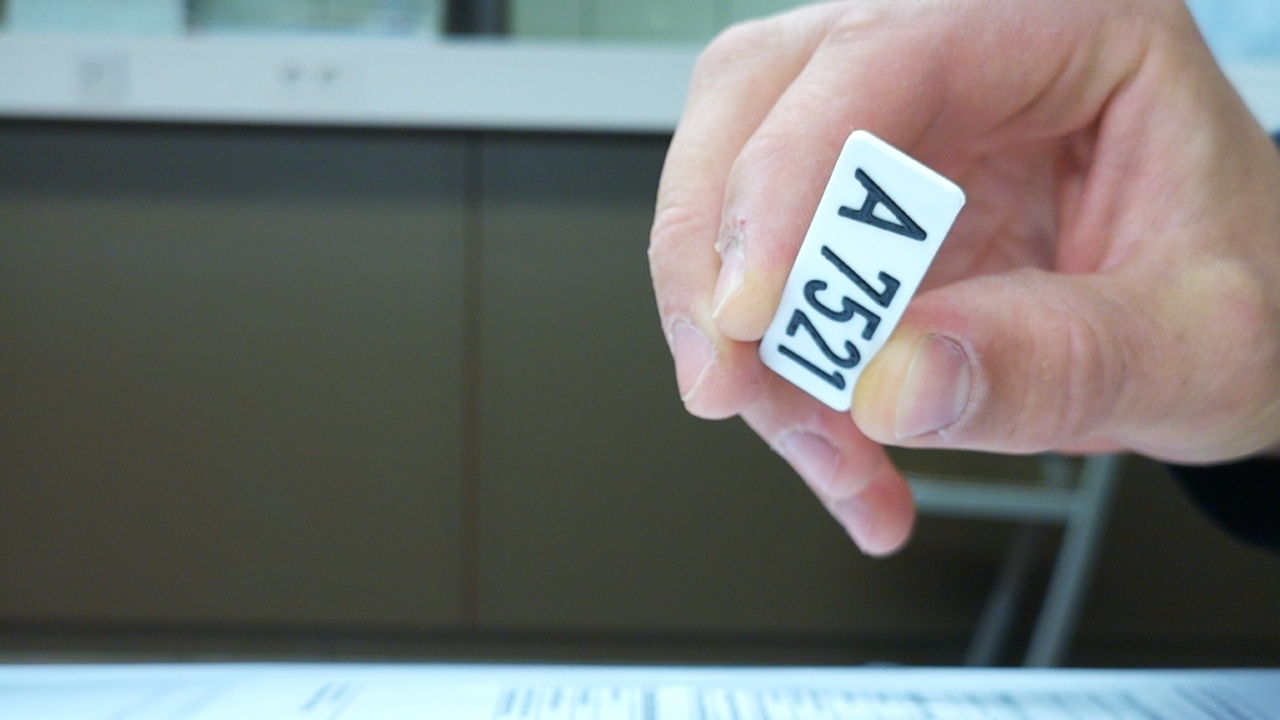license_plate: (756, 127, 968, 417)
